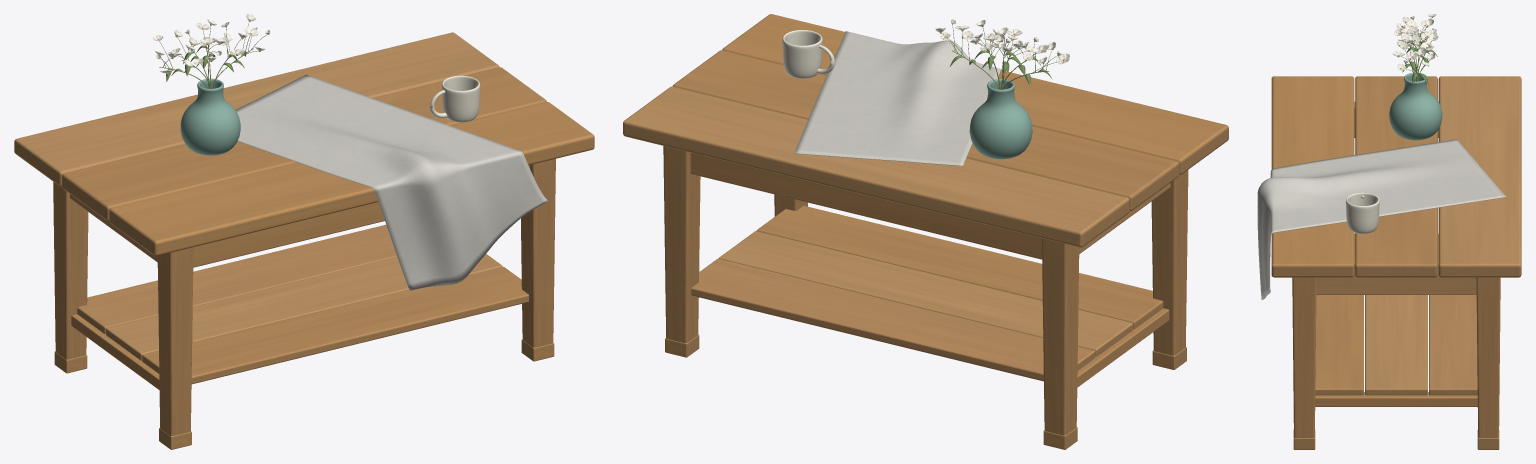
File: display-set.glb
3 renders of one model, left to right at view 1: azimuth 30°, elevation 25°; view 2: azimuth 150°, elevation 25°; view 3: azimuth 270°, elevation 25°, orthographic. The views are drawn at different scales.
Visible parts, largest first — view 1: asset-foundation-v1/table, asset-foundation-v1/cloth, asset-foundation-v1/vase, asset-foundation-v1/flowers, asset-foundation-v1/cup; view 2: asset-foundation-v1/table, asset-foundation-v1/cloth, asset-foundation-v1/vase, asset-foundation-v1/flowers, asset-foundation-v1/cup; view 3: asset-foundation-v1/table, asset-foundation-v1/cloth, asset-foundation-v1/vase, asset-foundation-v1/flowers, asset-foundation-v1/cup.
Part boxes in pixels (left/top/right/bottom): asset-foundation-v1/table: left=14, top=32, right=594, bottom=449; asset-foundation-v1/cloth: left=235, top=74, right=548, bottom=290; asset-foundation-v1/vase: left=180, top=78, right=240, bottom=155; asset-foundation-v1/flowers: left=153, top=14, right=270, bottom=88; asset-foundation-v1/cup: left=430, top=75, right=480, bottom=122; asset-foundation-v1/table: left=623, top=14, right=1228, bottom=449; asset-foundation-v1/cloth: left=794, top=31, right=1001, bottom=166; asset-foundation-v1/vase: left=969, top=79, right=1032, bottom=159; asset-foundation-v1/flowers: left=935, top=19, right=1070, bottom=89; asset-foundation-v1/cup: left=782, top=30, right=834, bottom=78; asset-foundation-v1/table: left=1271, top=76, right=1521, bottom=449; asset-foundation-v1/cloth: left=1257, top=139, right=1505, bottom=299; asset-foundation-v1/vase: left=1389, top=72, right=1442, bottom=140; asset-foundation-v1/flowers: left=1392, top=14, right=1438, bottom=84; asset-foundation-v1/cup: left=1346, top=192, right=1379, bottom=233.
Size of the model in its own units: 1.86 by 1.38 by 1.1.
12 materials, 6 textured.
